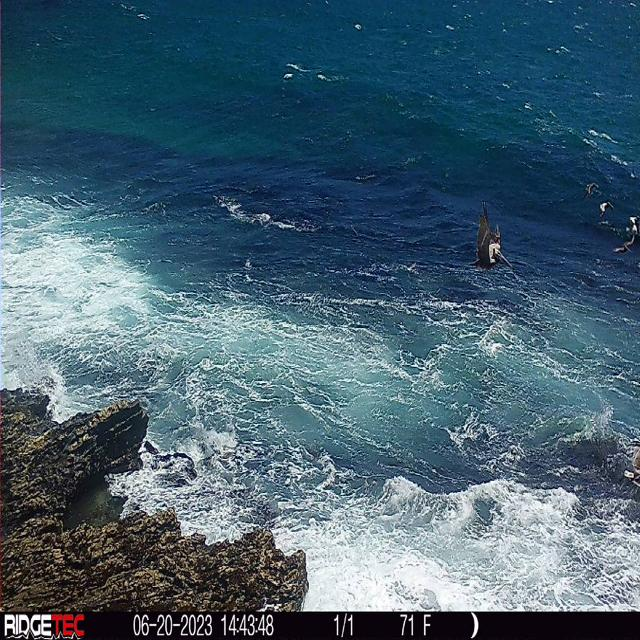bird: (469, 199, 513, 270)
